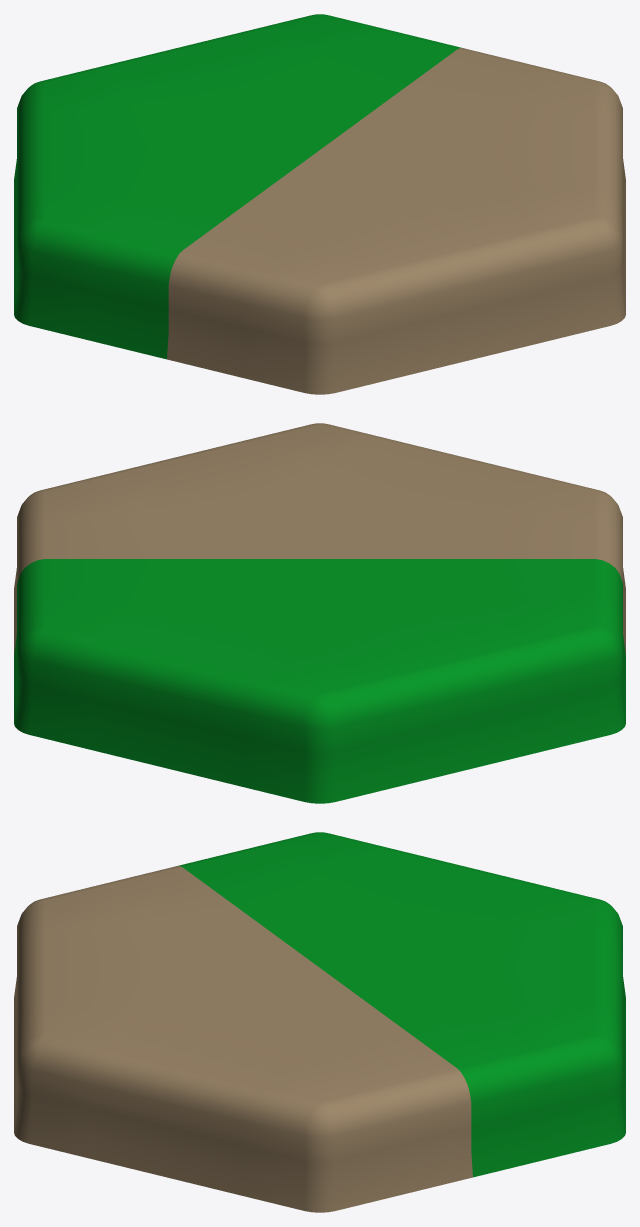
3 renders of one model, top to bottom at view 1: azimuth 30°, elevation 25°; view 2: azimuth 150°, elevation 25°; view 3: azimuth 270°, elevation 25°, orthographic.
Parts seen in each view (by area): view 1: Cylinder; view 2: Cylinder; view 3: Cylinder.
Part boxes in pixels (box(x1,y1,x2,y2)): Cylinder: box(14, 14, 625, 394); Cylinder: box(14, 423, 625, 803); Cylinder: box(14, 832, 625, 1212).
Size of the model in its own units: 207 by 31.94 by 182.
